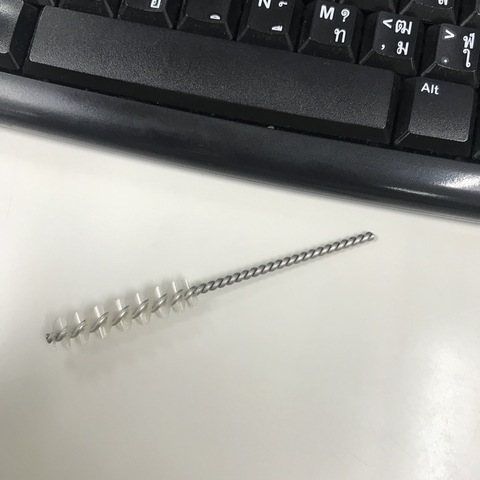Twist Brush-B: (48, 229, 377, 352)
